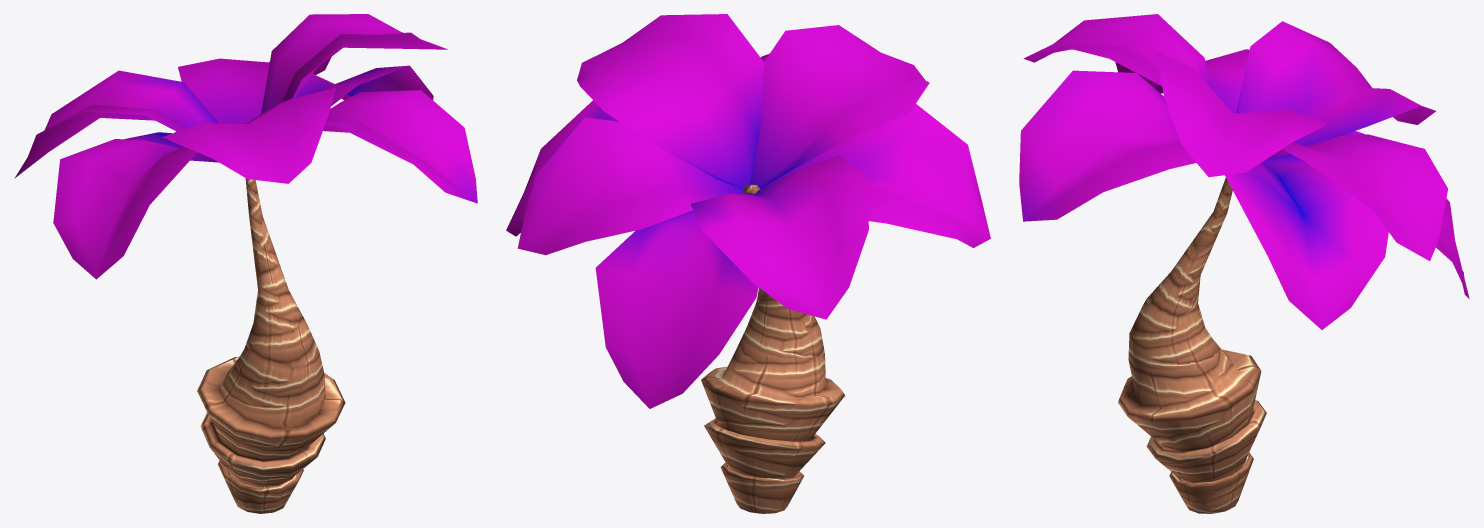
The model's file is Tree_Palm_06.fbx.
3 views of the same model, side by side, from view 1: azimuth 30°, elevation 25°; view 2: azimuth 150°, elevation 25°; view 3: azimuth 270°, elevation 25° (orthographic). The views are drawn at different scales.
Visible parts, largest first — view 1: Palm_06; view 2: Palm_06; view 3: Palm_06.
Boxes of the visible parts, x1,y1,x2,y2 form: Palm_06: [14, 14, 477, 513]; Palm_06: [506, 14, 990, 513]; Palm_06: [1019, 14, 1469, 513].
Size of the model in its own units: 355 by 387 by 326.
